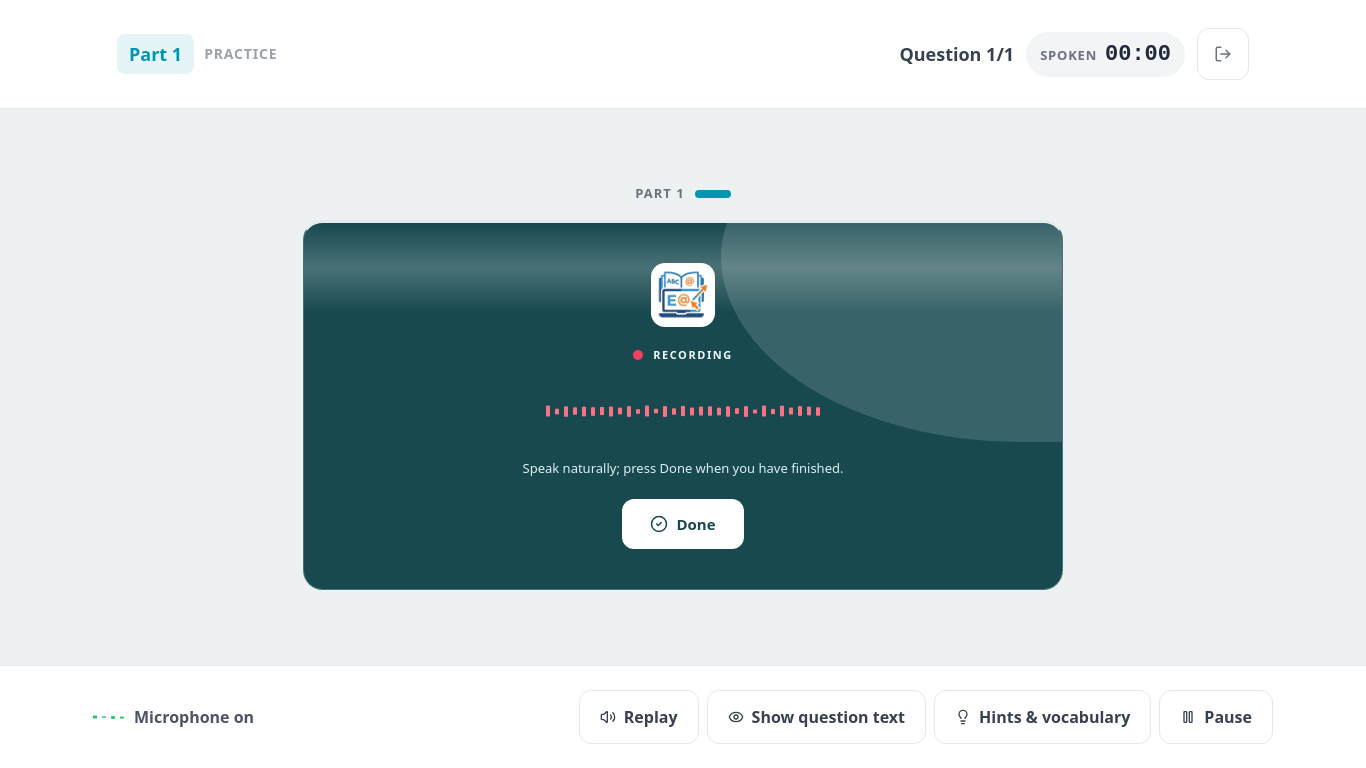
Test case: after answering it moves on and does not re-ask the submitted question
Expected: the text "RECORDING" is shown, x1=653 y1=346 x2=733 y2=363
Step 1. Click the button "Done" → (683, 524), box x1=622 y1=498 x2=744 y2=549
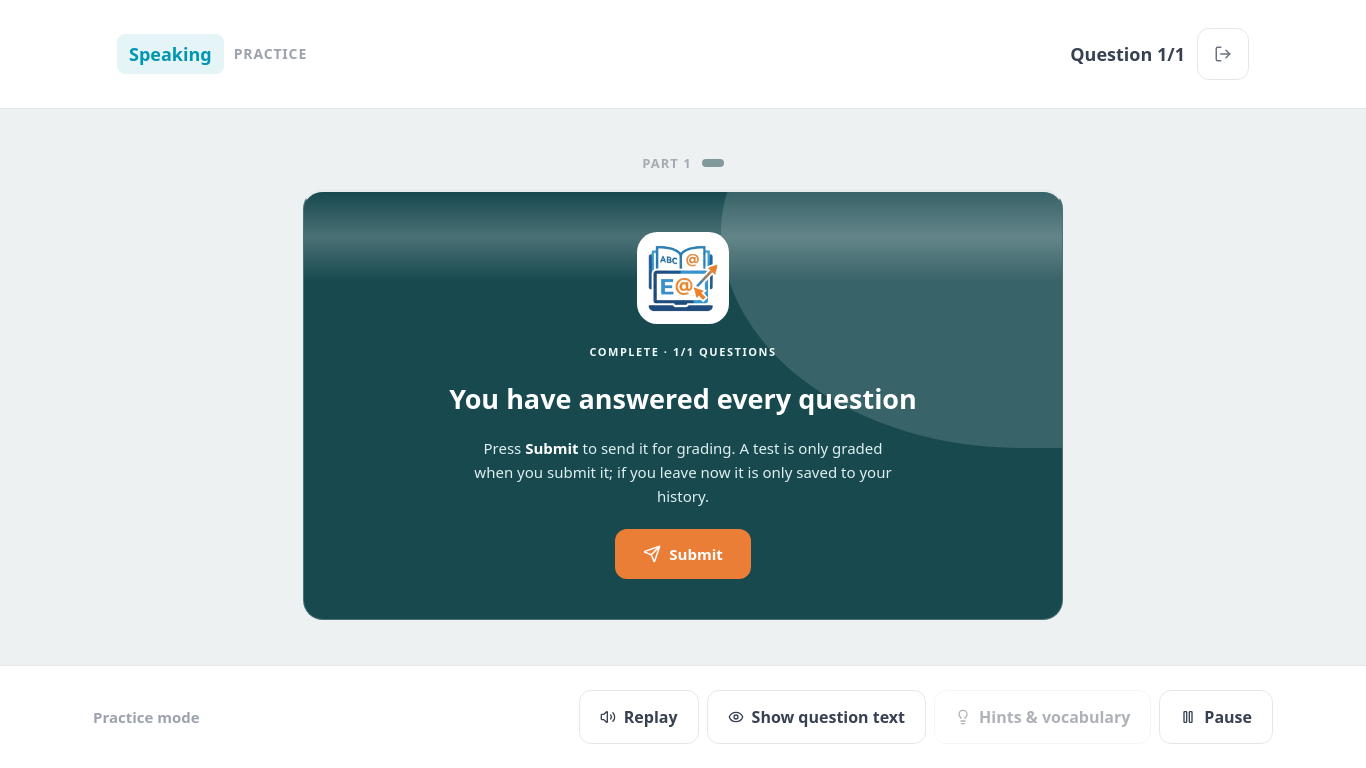
Now the text "You have answered every question" is shown, box x1=449 y1=381 x2=917 y2=416
